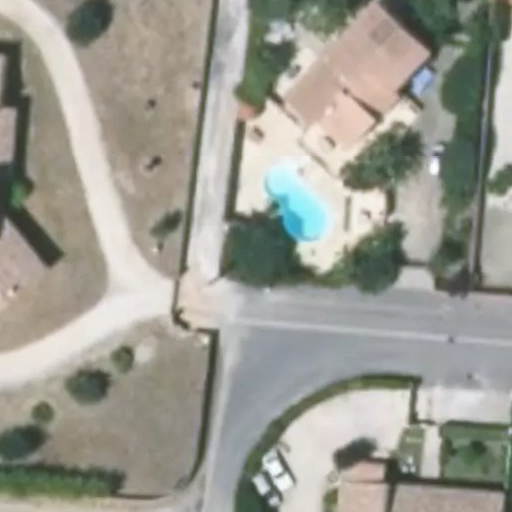pool: (230, 232, 285, 255)
